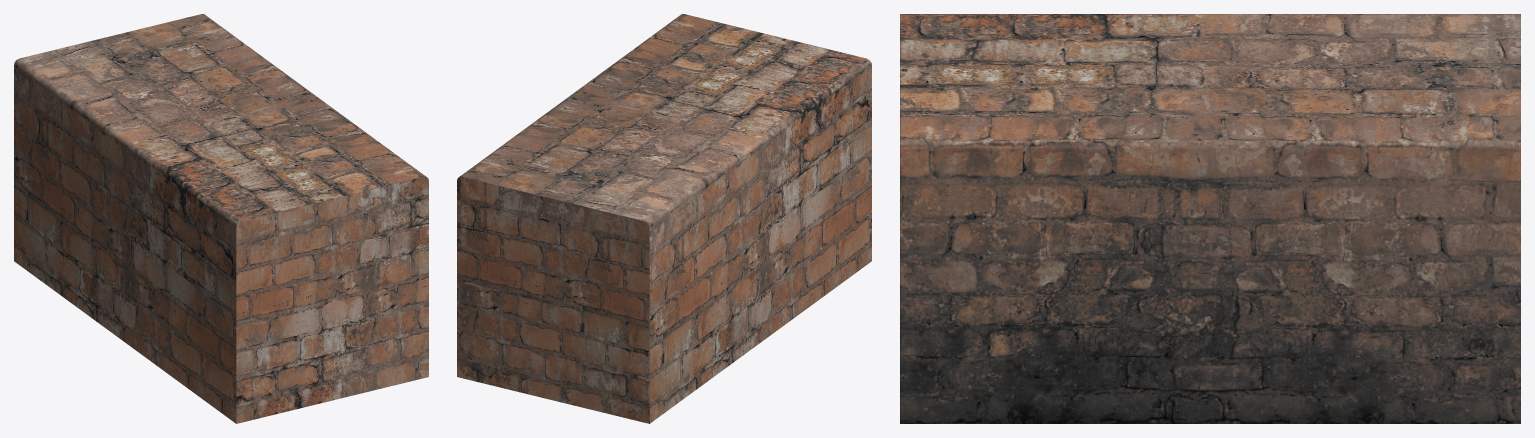
Rendered from Mesh_Wall_Small_Middle.fbx.
3 views of the same model, side by side, from view 1: azimuth 30°, elevation 25°; view 2: azimuth 150°, elevation 25°; view 3: azimuth 270°, elevation 25° (orthographic). The views are drawn at different scales.
Visible parts, largest first — view 1: pCube12; view 2: pCube12; view 3: pCube12.
Part boxes in pixels (bbox=[...]): pCube12: bbox=[14, 14, 428, 423]; pCube12: bbox=[457, 14, 871, 423]; pCube12: bbox=[900, 14, 1520, 423].
Bounding box in the file's own units: 0.5 × 0.5 × 1.
1 material, 1 textured.
